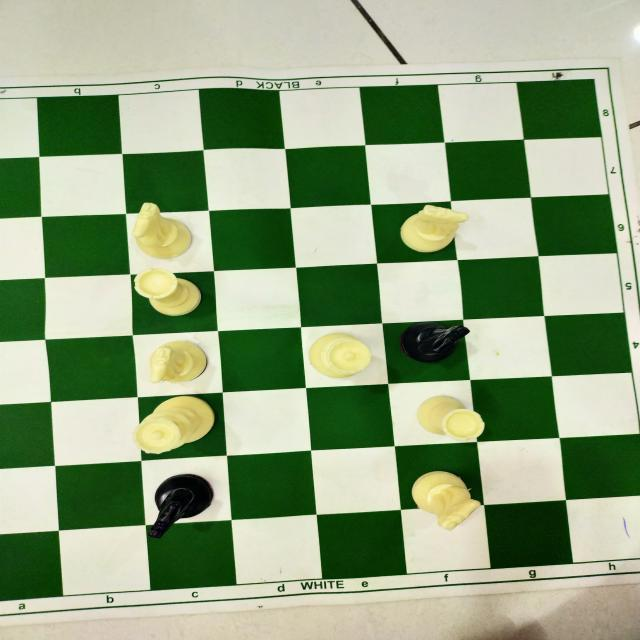black-knight: (146, 474, 214, 539), (400, 322, 470, 364)
white-knight: (410, 468, 480, 531), (132, 202, 194, 260), (400, 204, 469, 252), (148, 340, 209, 384)
white-queen: (133, 396, 214, 454), (308, 332, 371, 378)
white-rook: (134, 266, 202, 316), (416, 395, 485, 440)
